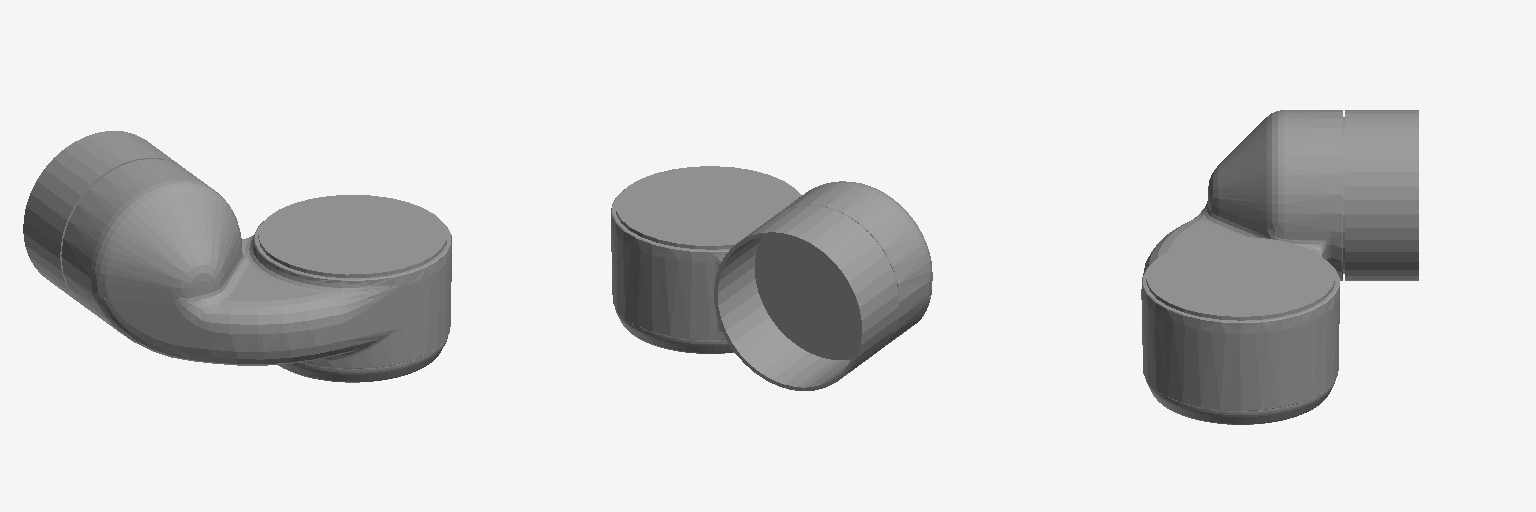
File: shoulder_pan_link.obj
The picture shows the model from 3 angles: view 1: azimuth 30°, elevation 25°; view 2: azimuth 150°, elevation 25°; view 3: azimuth 270°, elevation 25°; orthographic projection.
Parts seen in each view (by area): view 1: shoulder_pan_link_shoulder_pan_link; view 2: shoulder_pan_link_shoulder_pan_link; view 3: shoulder_pan_link_shoulder_pan_link.
Part boxes in pixels (x1,y1,x2,y2): shoulder_pan_link_shoulder_pan_link: (23, 131, 451, 382); shoulder_pan_link_shoulder_pan_link: (611, 166, 932, 390); shoulder_pan_link_shoulder_pan_link: (1141, 110, 1418, 424).
Size of the model in its own units: 0.2295 by 0.1265 by 0.1685.